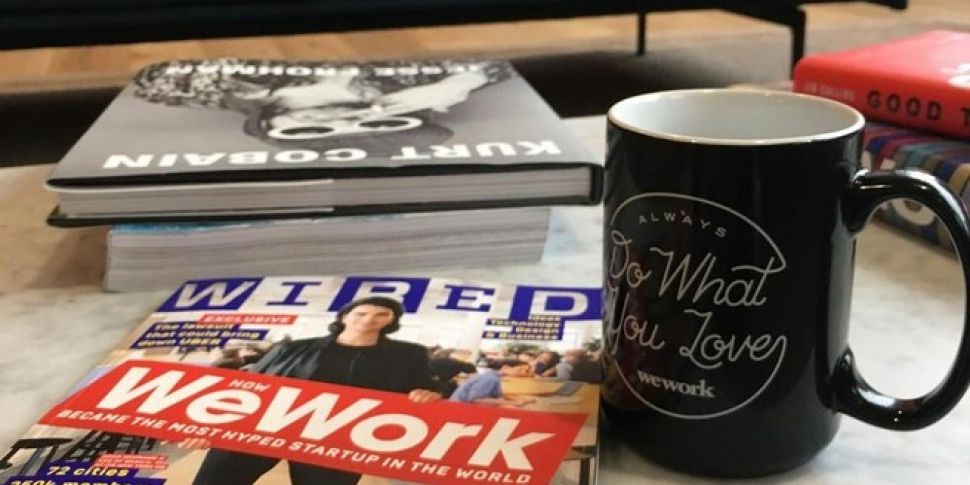wework: (635, 366, 717, 404)
